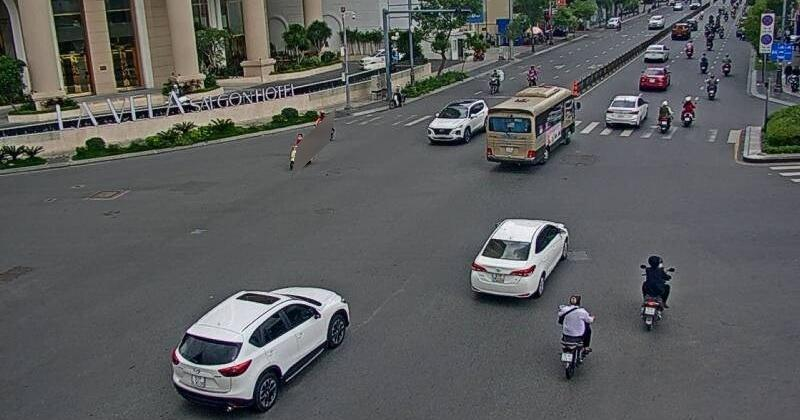xe buyt: (484, 84, 579, 166)
xe hoi: (166, 283, 351, 420), (469, 215, 569, 302), (426, 99, 486, 145), (606, 93, 649, 129)
xe may: (556, 294, 596, 375), (638, 254, 671, 322), (288, 131, 315, 170), (311, 109, 336, 146), (655, 99, 674, 134), (680, 93, 697, 126)
